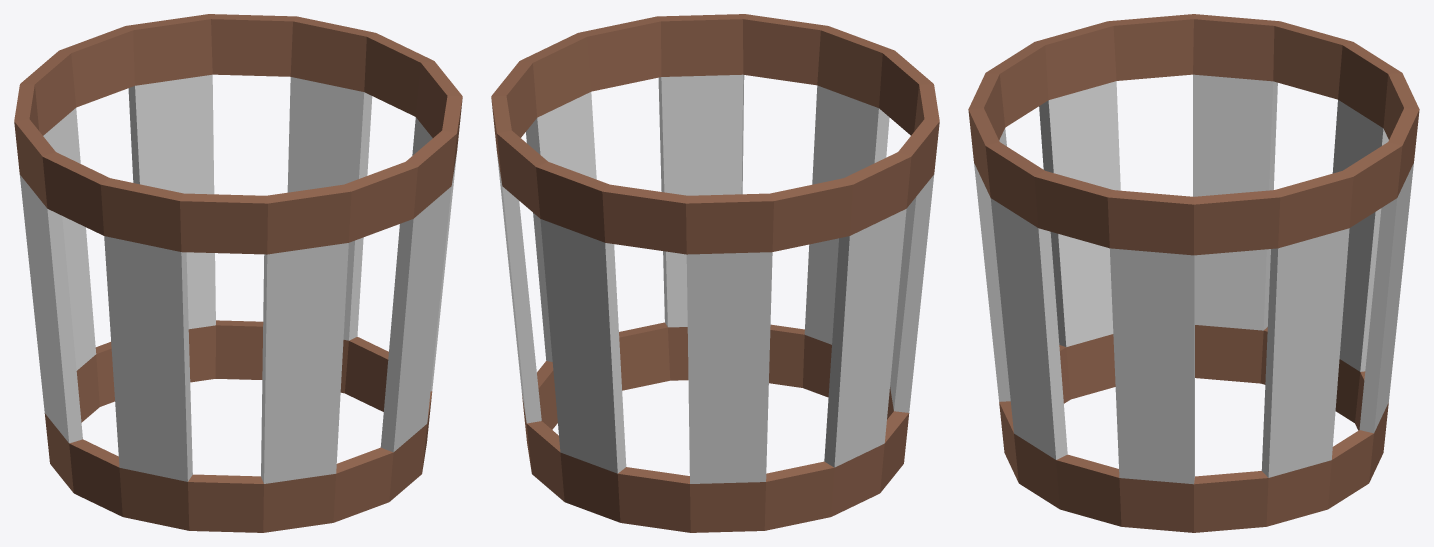
Rendered from embasket.fbx.
The picture shows the model from 3 angles, left to right: view 1: azimuth 30°, elevation 25°; view 2: azimuth 150°, elevation 25°; view 3: azimuth 270°, elevation 25°; orthographic projection.
Parts seen in each view (by area): view 1: Cylinder; view 2: Cylinder; view 3: Cylinder.
Part boxes in pixels (x1=…): Cylinder: x1=14, y1=14, x2=462, y2=532; Cylinder: x1=491, y1=14, x2=939, y2=532; Cylinder: x1=968, y1=14, x2=1419, y2=532.
Bounding box in the file's own units: 238 × 201 × 238.
